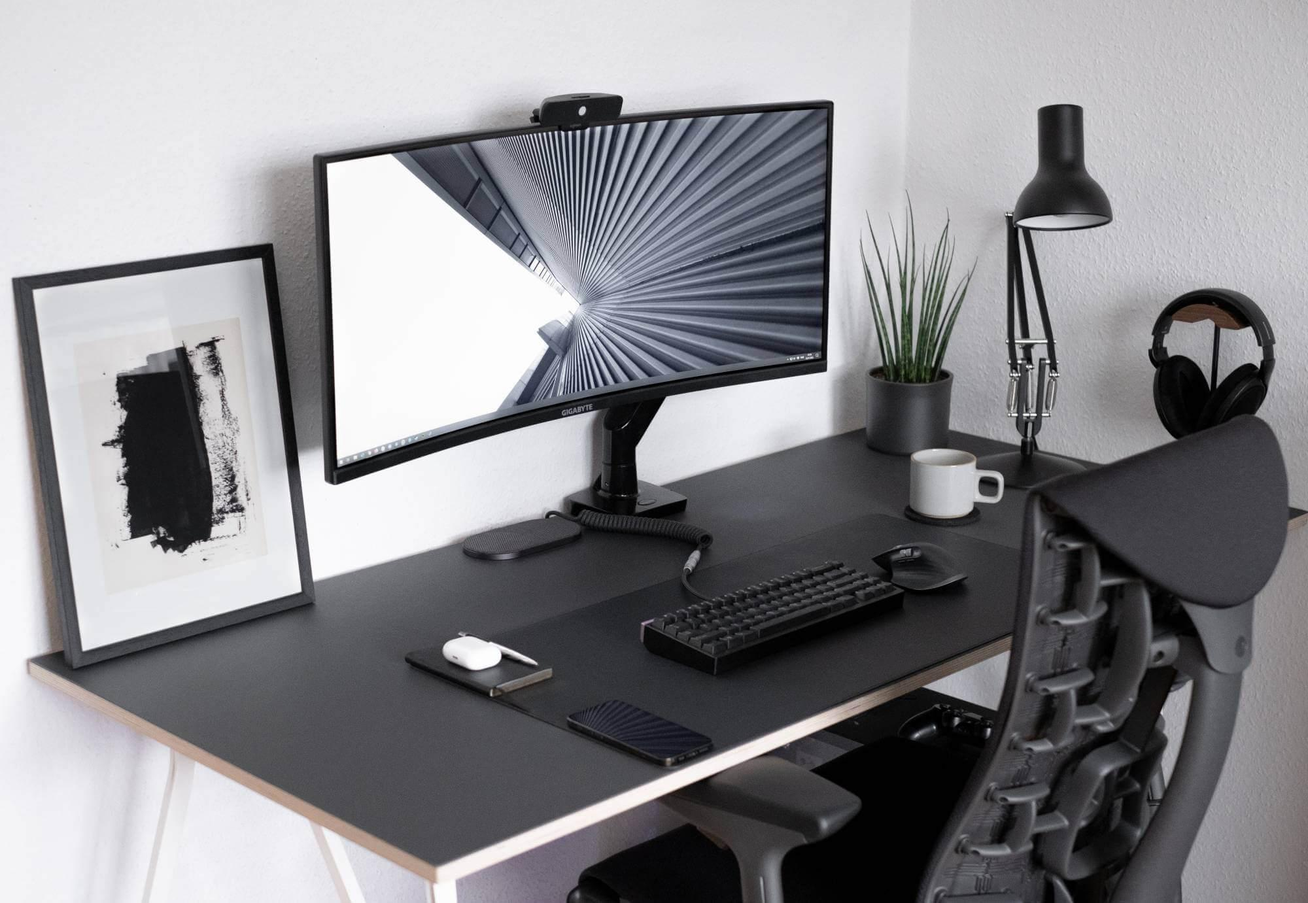head_phone: (1137, 274, 1289, 449)
keyboard: (624, 542, 940, 679)
mobile_phone: (562, 687, 725, 779)
monitor: (300, 87, 869, 489)
mouse: (865, 529, 972, 600)
webcam: (524, 79, 636, 139)
